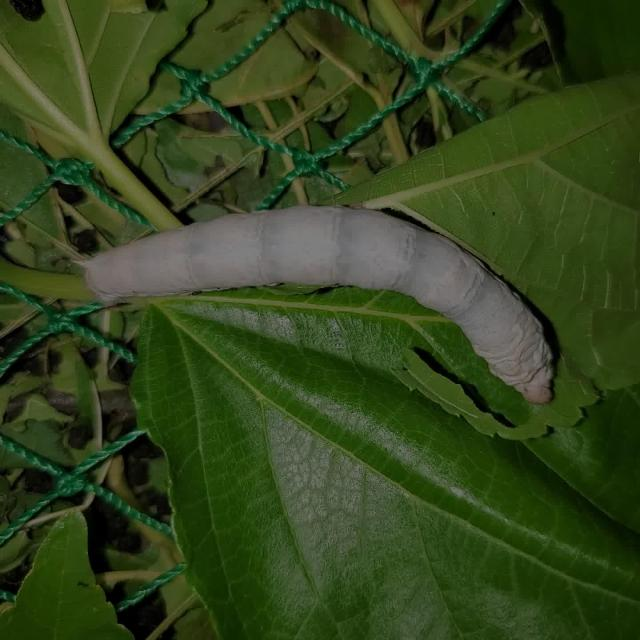Healthy: (45, 176, 585, 416)
